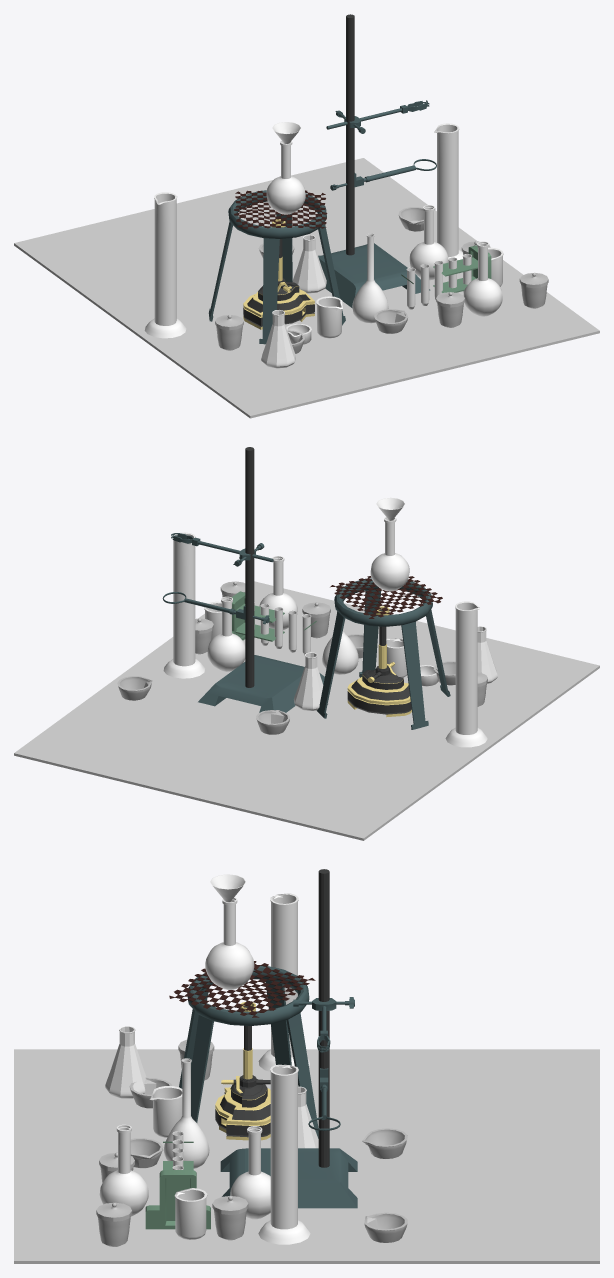
The model's file is lab.glb.
3 views of the same model, one above another, from view 1: azimuth 30°, elevation 25°; view 2: azimuth 150°, elevation 25°; view 3: azimuth 270°, elevation 25° (orthographic). The views are drawn at different scales.
Parts seen in each view (by area): view 1: Plane, Torus.001, Cylinder.016, Cube.001, Cube.002, Cylinder.005, Cylinder.001, Plane.001, Cylinder.018, Cylinder.008, Cylinder.003, Cylinder.004 (+10 smaller); view 2: Plane, Torus.001, Cube.001, Cylinder.016, Cube.002, Cylinder.005, Cylinder.001, Plane.001, Cylinder.008, Cylinder.007, Cylinder.003, Cylinder.010 (+9 smaller); view 3: Plane, Torus.001, Cylinder.005, Cube.002, Cube.001, Cylinder.001, Plane.001, Cylinder.016, Cylinder.008, Cylinder.018, Cube, Cylinder.007 (+12 smaller).
Part boxes in pixels (x1=…): Plane: x1=14, y1=158, x2=599, y2=418; Torus.001: x1=208, y1=190, x2=345, y2=344; Cylinder.016: x1=144, y1=192, x2=186, y2=338; Cube.001: x1=326, y1=14, x2=436, y2=255; Cube.002: x1=318, y1=243, x2=430, y2=308; Cylinder.005: x1=434, y1=123, x2=462, y2=260; Cylinder.001: x1=243, y1=219, x2=314, y2=329; Plane.001: x1=234, y1=190, x2=327, y2=229; Cylinder.018: x1=463, y1=241, x2=502, y2=316; Cylinder.008: x1=266, y1=140, x2=305, y2=214; Cylinder.003: x1=406, y1=254, x2=471, y2=309; Cylinder.004: x1=352, y1=233, x2=388, y2=323; Plane: x1=14, y1=581, x2=599, y2=840; Torus.001: x1=316, y1=578, x2=450, y2=729; Cube.001: x1=162, y1=447, x2=273, y2=687; Cylinder.016: x1=445, y1=601, x2=487, y2=747; Cube.002: x1=198, y1=655, x2=324, y2=712; Cylinder.005: x1=163, y1=532, x2=204, y2=678; Cylinder.001: x1=347, y1=606, x2=411, y2=717; Plane.001: x1=330, y1=576, x2=442, y2=618; Cylinder.008: x1=370, y1=517, x2=409, y2=591; Cylinder.007: x1=207, y1=596, x2=245, y2=671; Cylinder.003: x1=254, y1=601, x2=311, y2=655; Cylinder.010: x1=294, y1=652, x2=328, y2=710; Plane: x1=14, y1=1049, x2=599, y2=1263; Torus.001: x1=179, y1=965, x2=318, y2=1138; Cylinder.005: x1=258, y1=1064, x2=310, y2=1244; Cube.002: x1=220, y1=1148, x2=357, y2=1208; Cube.001: x1=293, y1=869, x2=354, y2=1167; Cylinder.001: x1=215, y1=1002, x2=270, y2=1140; Plane.001: x1=169, y1=961, x2=315, y2=1017; Cylinder.016: x1=258, y1=893, x2=309, y2=1071; Cylinder.008: x1=205, y1=897, x2=254, y2=989; Cylinder.018: x1=99, y1=1124, x2=148, y2=1216; Cube: x1=145, y1=1141, x2=210, y2=1229; Cylinder.007: x1=230, y1=1126, x2=270, y2=1219.
Size of the model in its own units: 19.91 by 13.91 by 23.3.
